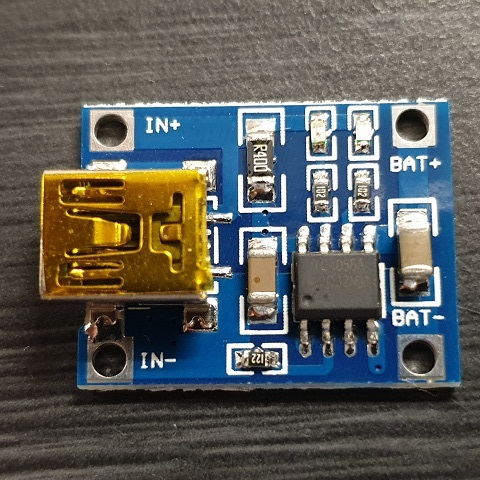batt+: (386, 103, 438, 150)
batt-: (400, 338, 441, 382)
charge: (302, 108, 340, 158)
done: (344, 106, 370, 158)
rprog: (224, 343, 276, 375)
usb: (34, 170, 204, 299)
